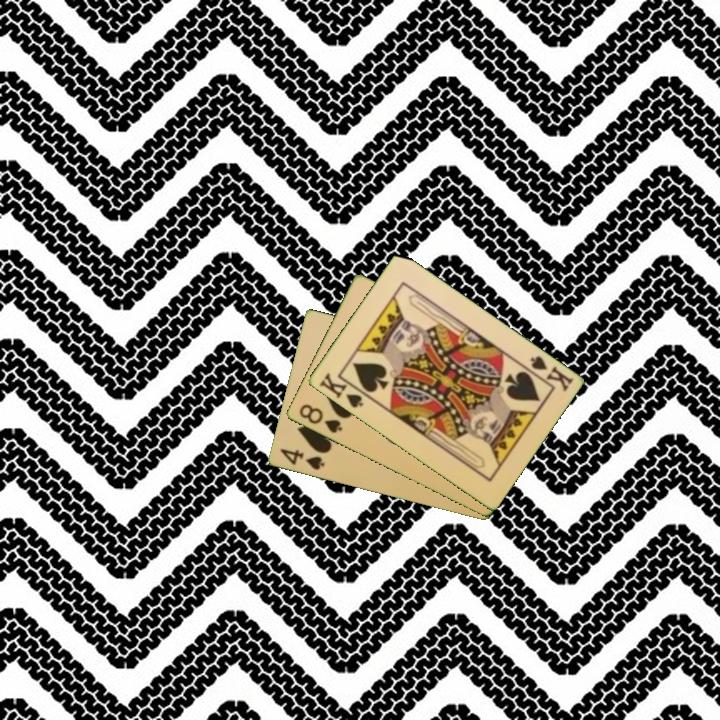4s: (276, 445, 327, 473)
8s: (295, 401, 345, 436)
Ks: (520, 352, 576, 395), (315, 369, 370, 411)
